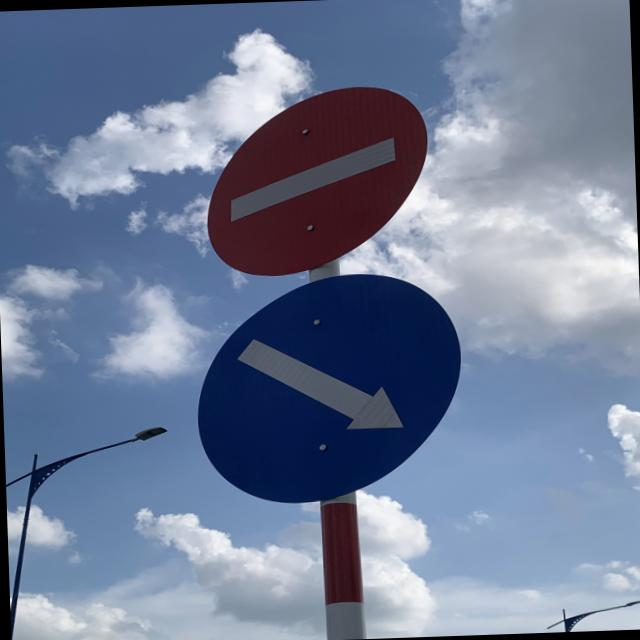Cam_Di_Nguoc_Chieu: (202, 86, 430, 280)
Chi_Huong_Di_Phai: (196, 273, 468, 512)
